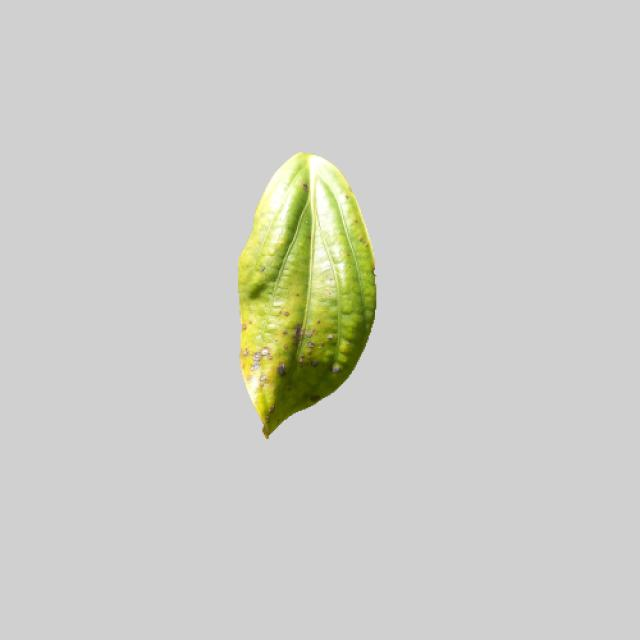yellow-mottle-virus: (226, 148, 382, 442)
